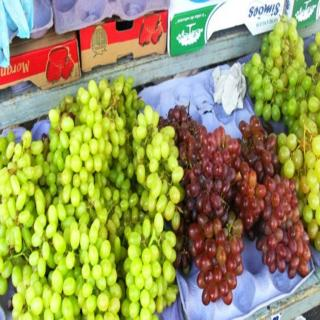Grape: (0, 15, 320, 319)
